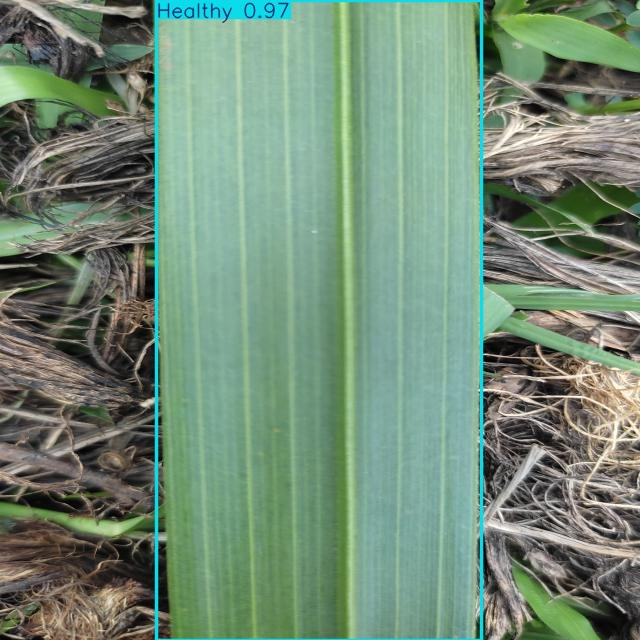Healthy: (156, 0, 482, 640)
